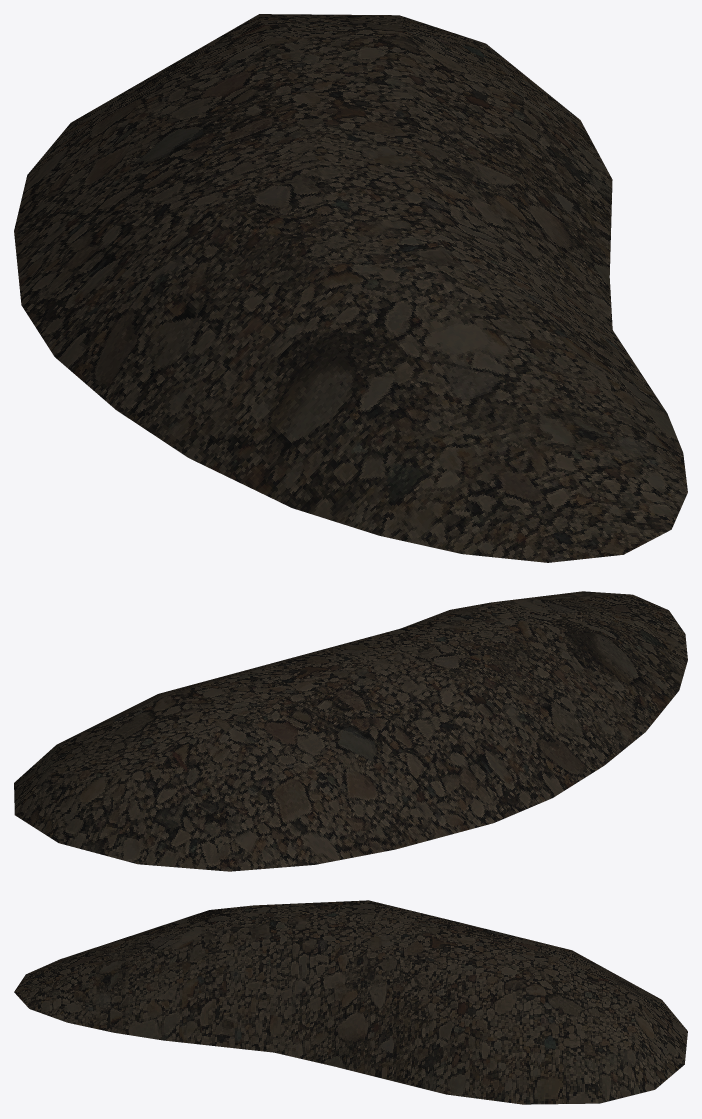
The model's file is gravel_pile_hr_1.glb.
The picture shows the model from 3 angles, top to bottom: view 1: azimuth 30°, elevation 25°; view 2: azimuth 150°, elevation 25°; view 3: azimuth 270°, elevation 25°; orthographic projection. The views are drawn at different scales.
Visible parts, largest first — view 1: gravel_pile_hr_1; view 2: gravel_pile_hr_1; view 3: gravel_pile_hr_1.
Part boxes in pixels (x1,y1,x2,y2): gravel_pile_hr_1: [14, 14, 687, 562]; gravel_pile_hr_1: [14, 591, 687, 871]; gravel_pile_hr_1: [14, 900, 687, 1104].
Size of the model in its own units: 1.17 by 0.2567 by 1.9.
Materials: 1 (1 with a texture image).
